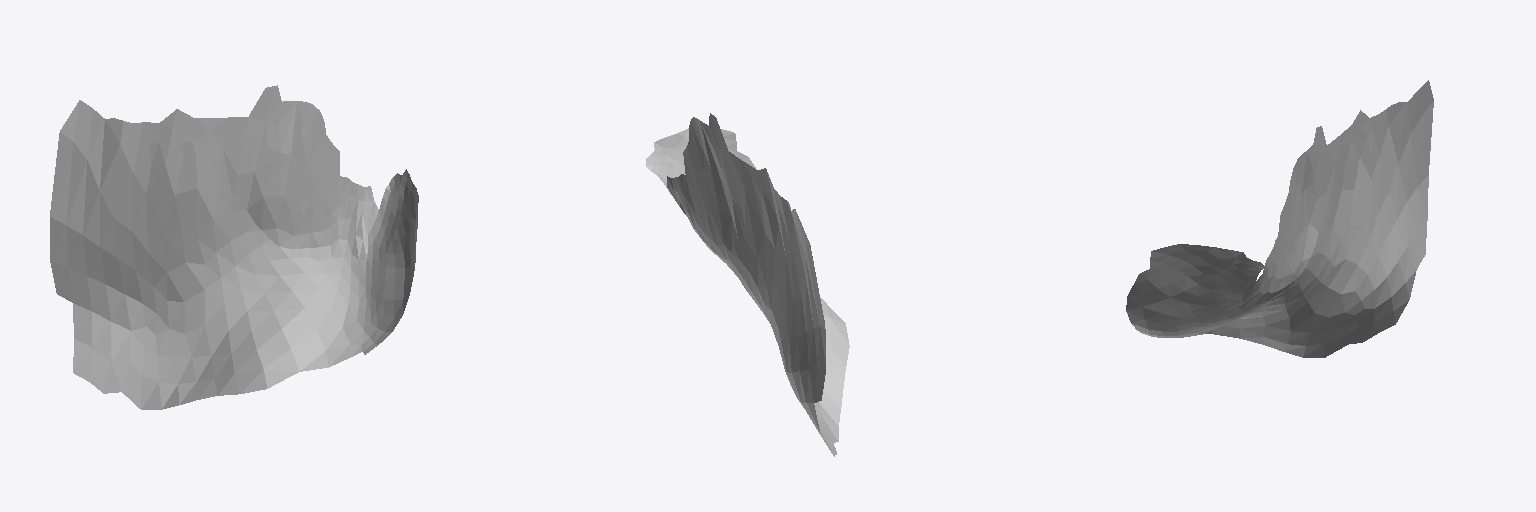
File: R_innerLipCollision.obj
3 views of the same model, side by side, from view 1: azimuth 30°, elevation 25°; view 2: azimuth 150°, elevation 25°; view 3: azimuth 270°, elevation 25° (orthographic).
Visible parts, largest first — view 1: objMat.003; view 2: objMat.003; view 3: objMat.003.
Part boxes in pixels (bbox=[...]): objMat.003: bbox=[50, 85, 418, 409]; objMat.003: bbox=[646, 113, 849, 456]; objMat.003: bbox=[1126, 80, 1433, 357].
Bounding box in the file's own units: 0.6545 × 0.698 × 0.6604.